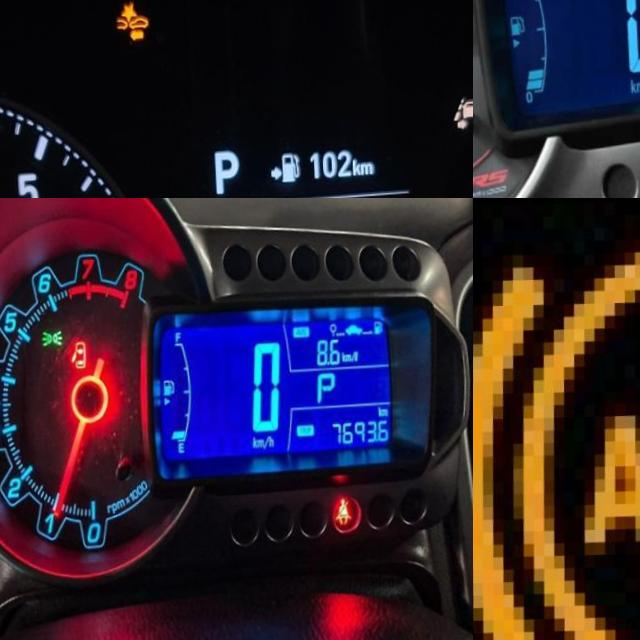Doors: (67, 342, 83, 371)
SideLamp: (36, 330, 59, 350)
